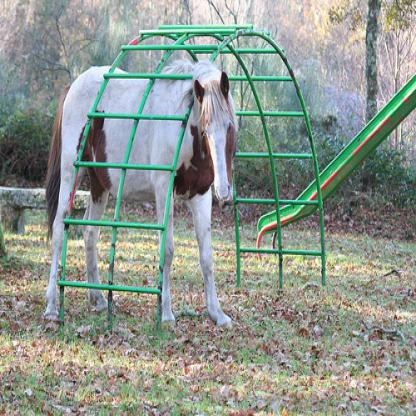horse: (44, 61, 236, 326)
